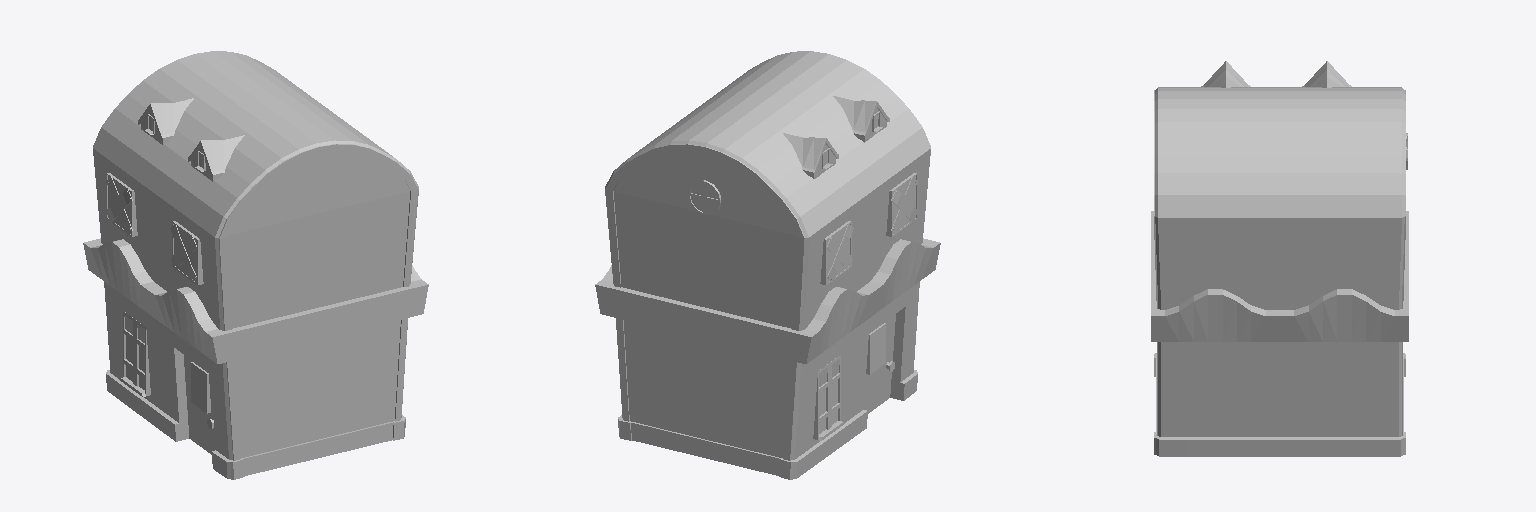
File: 2_CityB_OldHouse_v1_right.obj
3 views of the same model, side by side, from view 1: azimuth 30°, elevation 25°; view 2: azimuth 150°, elevation 25°; view 3: azimuth 270°, elevation 25° (orthographic).
Parts seen in each view (by area): view 1: CityB_OldHouse_mesh; view 2: CityB_OldHouse_mesh; view 3: CityB_OldHouse_mesh.
Part boxes in pixels (x1,y1,x2,y2): CityB_OldHouse_mesh: (83,51,428,479); CityB_OldHouse_mesh: (595,51,940,479); CityB_OldHouse_mesh: (1151,61,1408,456).
Bounding box in the file's own units: 9.92 × 13.78 × 10.26.